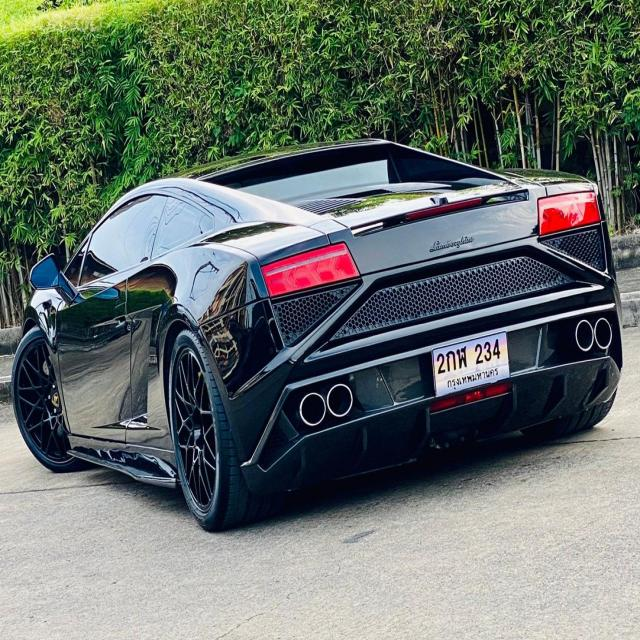license_plate: (429, 328, 513, 406)
